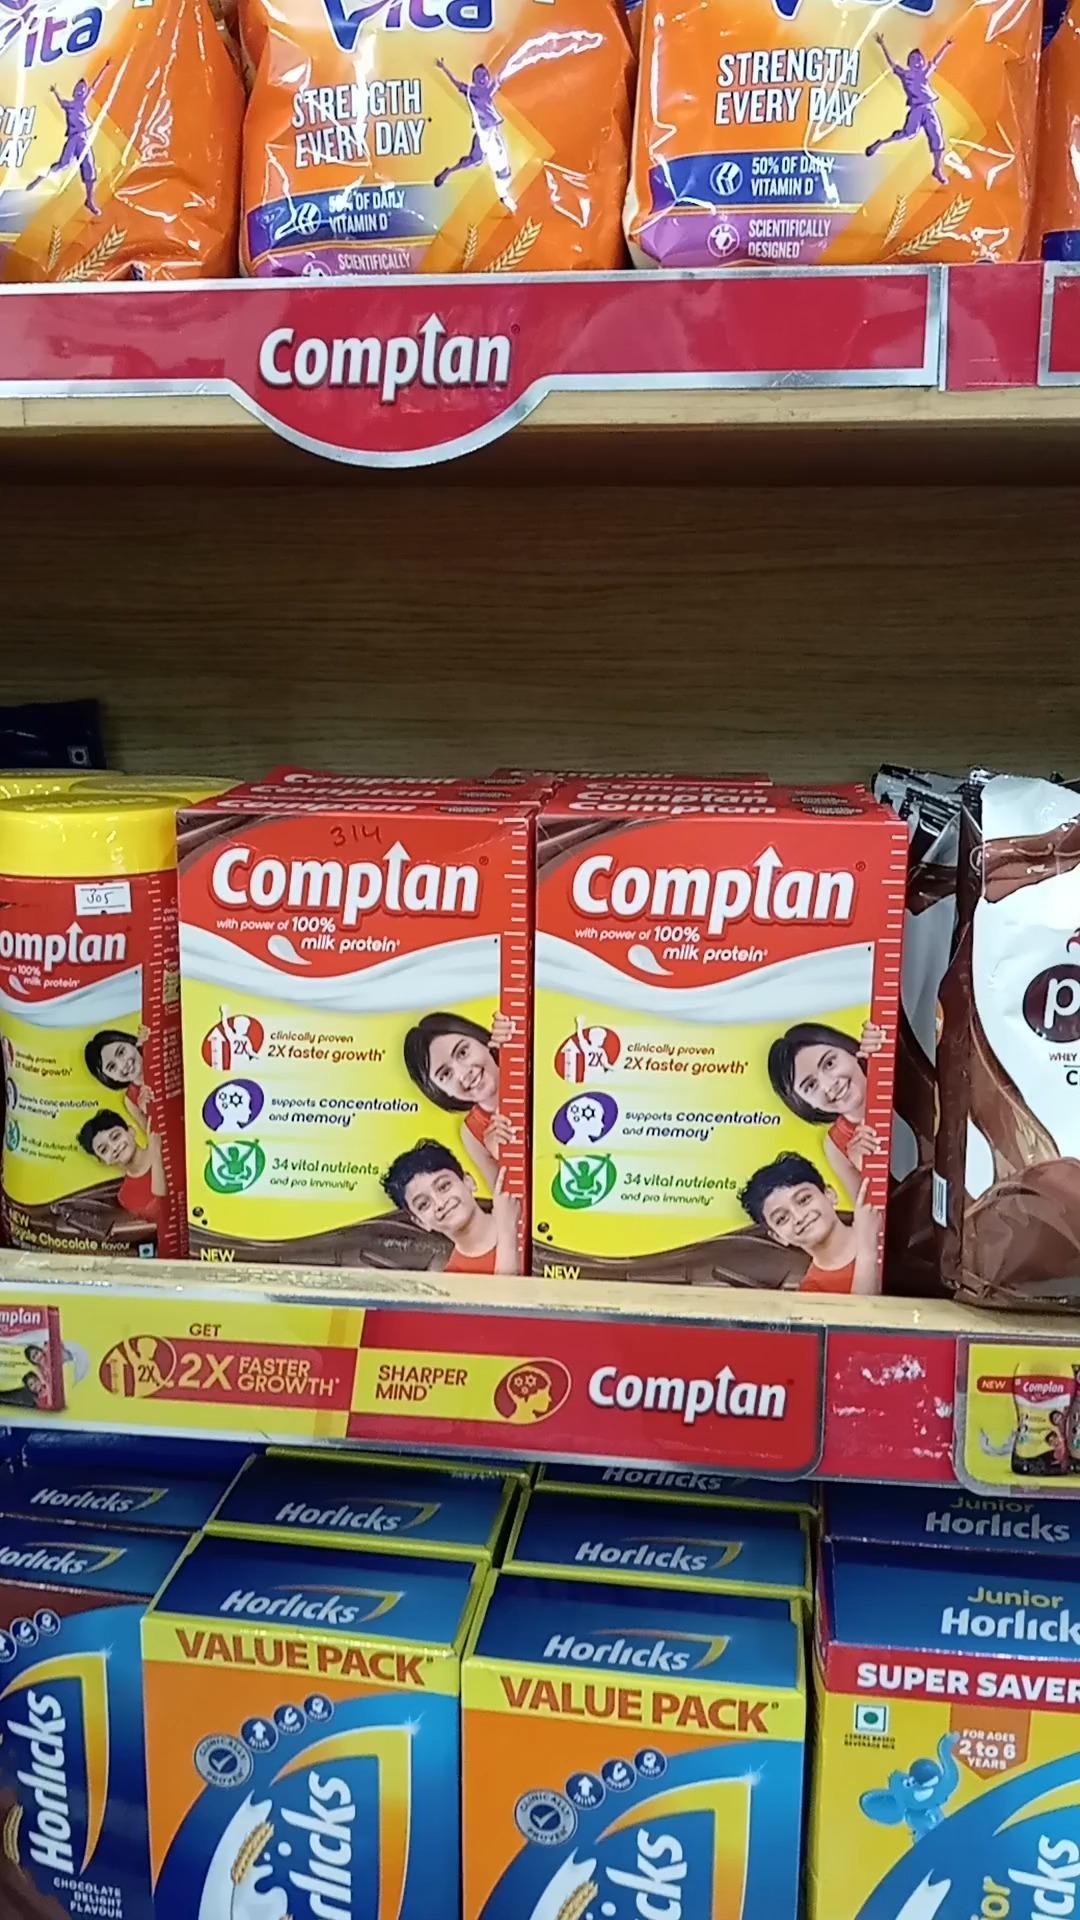COMPLAN_CHOCOLATE_500_GMS_JAR: (0, 800, 175, 1257)
COMPLAN_CHOCOLATE_500_GMS_PACK: (538, 819, 881, 1291), (183, 806, 521, 1273)
